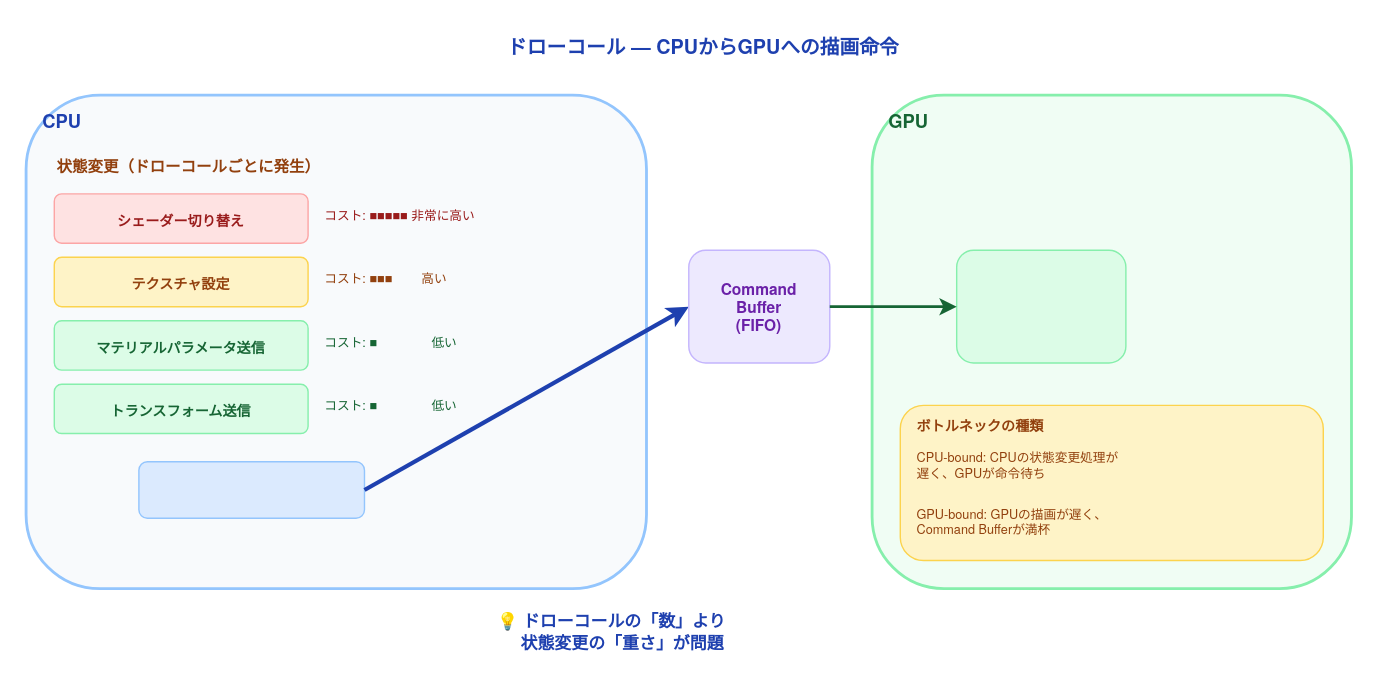
This 1376x682 diagram has some shape labels left out. Here are the shapes that lost their labels. From the top down, the box of each, then its label:
(955, 249, 1126, 363): 描画実行
(137, 460, 364, 518): ドローコール発行
